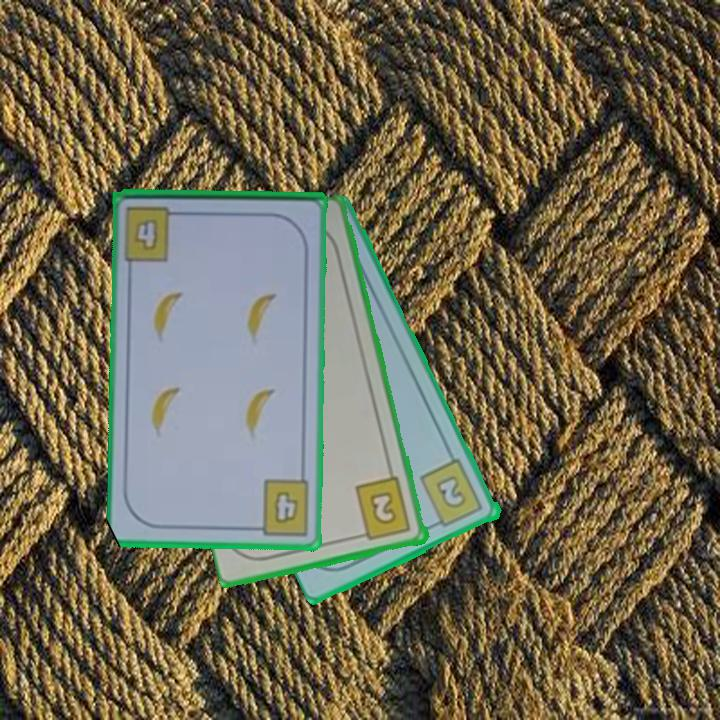2b: (416, 456, 487, 531), (352, 474, 414, 544)
4b: (248, 476, 313, 538), (121, 202, 186, 264)
